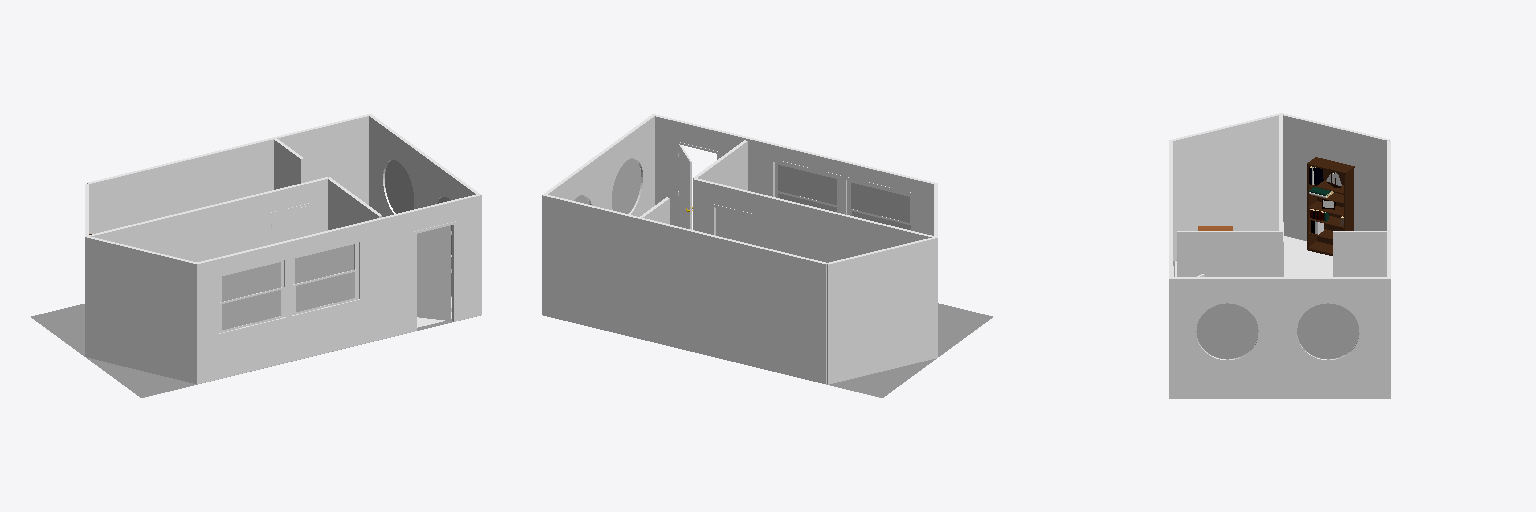
Rendered from consultorio.obj.
3 renders of one model, left to right at view 1: azimuth 30°, elevation 25°; view 2: azimuth 150°, elevation 25°; view 3: azimuth 270°, elevation 25°, orthographic.
Parts seen in each view (by area): view 1: wall_3_16, wall_1_5, wall_4_22, wall_8_47, wall_2_11, ground_1, sweethome3d_opening_on_hinge_1_door_59, sweethome3d_window_pane_on_rail_1_86, sweethome3d_window_pane_on_rail_1_80, sweethome3d_window_pane_77, sweethome3d_window_pane_83, wall_6_34 (+4 smaller); view 2: wall_1_4, wall_5_28, wall_8_46, wall_3_17, wall_2_11, ground_1, sweethome3d_window_pane_83, sweethome3d_window_pane_77, wall_6_34, sweethome3d_window_pane_70, sweethome3d_opening_on_hinge_1_door_59, sweethome3d_opening_on_hinge_1_door_68; view 3: wall_2_10, wall_4_23, wall_5_29, wall_6_35, sweethome3d_window_pane_73, sweethome3d_window_pane_70, Bookcase_221, wall_7_41, room_9_50.
Boxes of the visible parts, x1=… form: wall_3_16: x1=197, y1=195, x2=481, y2=383; wall_1_5: x1=89, y1=116, x2=368, y2=233; wall_4_22: x1=85, y1=237, x2=196, y2=383; wall_8_47: x1=91, y1=179, x2=327, y2=261; wall_2_11: x1=369, y1=116, x2=475, y2=295; ground_1: x1=31, y1=296, x2=480, y2=397; sweethome3d_opening_on_hinge_1_door_59: x1=417, y1=225, x2=450, y2=320; sweethome3d_window_pane_on_rail_1_86: x1=296, y1=272, x2=354, y2=311; sweethome3d_window_pane_on_rail_1_80: x1=222, y1=290, x2=280, y2=329; sweethome3d_window_pane_77: x1=222, y1=262, x2=280, y2=301; sweethome3d_window_pane_83: x1=295, y1=244, x2=353, y2=283; wall_6_34: x1=328, y1=179, x2=379, y2=229; wall_1_4: x1=542, y1=195, x2=826, y2=383; wall_5_28: x1=827, y1=238, x2=937, y2=384; wall_8_46: x1=693, y1=179, x2=931, y2=262; wall_3_17: x1=655, y1=116, x2=933, y2=235; wall_2_11: x1=548, y1=116, x2=654, y2=216; ground_1: x1=826, y1=303, x2=992, y2=397; sweethome3d_window_pane_83: x1=778, y1=165, x2=836, y2=204; sweethome3d_window_pane_77: x1=851, y1=183, x2=909, y2=222; wall_6_34: x1=698, y1=141, x2=747, y2=190; sweethome3d_window_pane_70: x1=612, y1=158, x2=640, y2=213; sweethome3d_opening_on_hinge_1_door_59: x1=679, y1=144, x2=691, y2=229; sweethome3d_opening_on_hinge_1_door_68: x1=716, y1=208, x2=750, y2=243; wall_2_10: x1=1169, y1=279, x2=1390, y2=398; wall_4_23: x1=1173, y1=115, x2=1278, y2=260; wall_5_29: x1=1283, y1=115, x2=1386, y2=240; wall_6_35: x1=1177, y1=232, x2=1280, y2=276; sweethome3d_window_pane_73: x1=1297, y1=303, x2=1358, y2=358; sweethome3d_window_pane_70: x1=1196, y1=303, x2=1258, y2=358; Bookcase_221: x1=1307, y1=157, x2=1354, y2=255; wall_7_41: x1=1333, y1=232, x2=1386, y2=276; room_9_50: x1=1175, y1=236, x2=1332, y2=276.
Size of the model in its own units: 742 by 250 by 421.